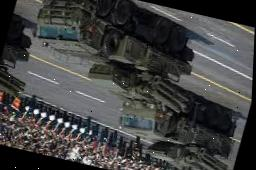truck: (9, 0, 212, 118), (95, 75, 248, 170), (0, 11, 43, 106)
